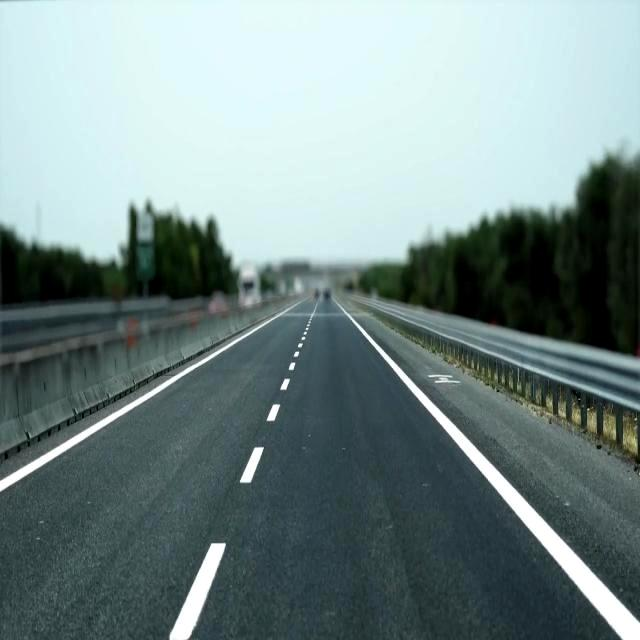lane: (343, 309, 640, 640), (0, 301, 302, 492), (169, 542, 224, 640), (240, 448, 262, 483)
road: (0, 300, 617, 639), (377, 330, 639, 616)
